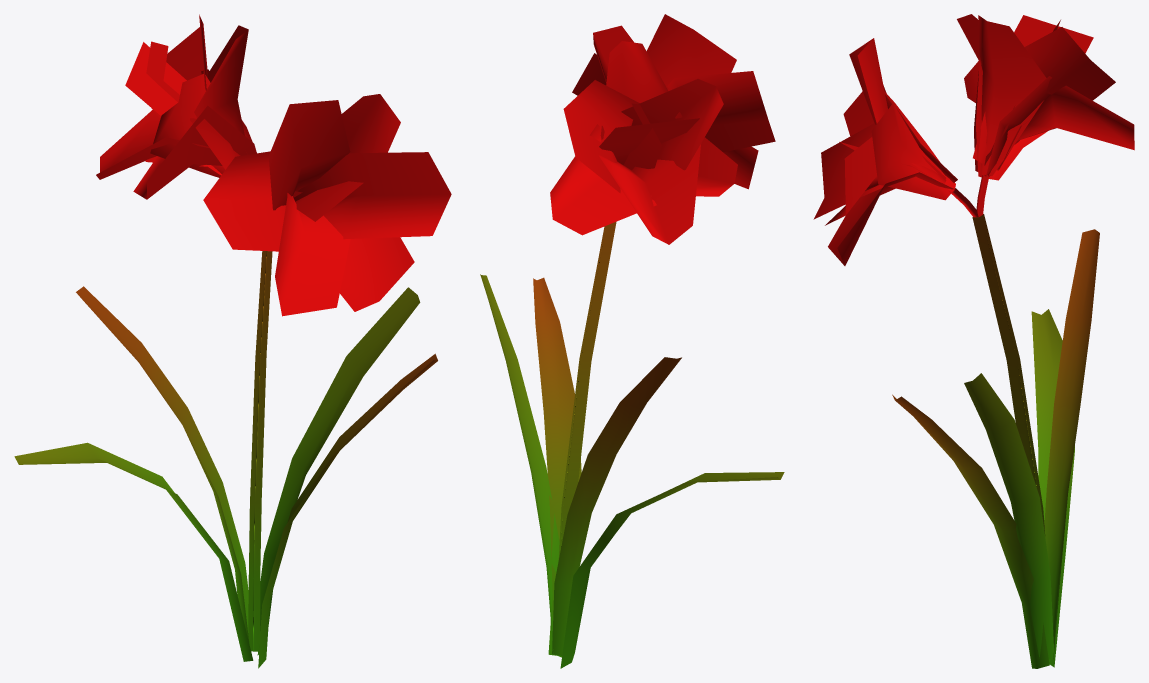
The model's file is Var1_LOD1.fbx.
The picture shows the model from 3 angles, left to right: view 1: azimuth 30°, elevation 25°; view 2: azimuth 150°, elevation 25°; view 3: azimuth 270°, elevation 25°; orthographic projection. The views are drawn at different scales.
Visible parts, largest first — view 1: _fda4_Var1_LOD1; view 2: _fda4_Var1_LOD1; view 3: _fda4_Var1_LOD1.
Boxes of the visible parts, x1,y1,x2,y2 form: _fda4_Var1_LOD1: (14,14,451,668); _fda4_Var1_LOD1: (480,14,784,668); _fda4_Var1_LOD1: (813,14,1134,668).
Bounding box in the file's own units: 50.15 × 87.62 × 40.35.
